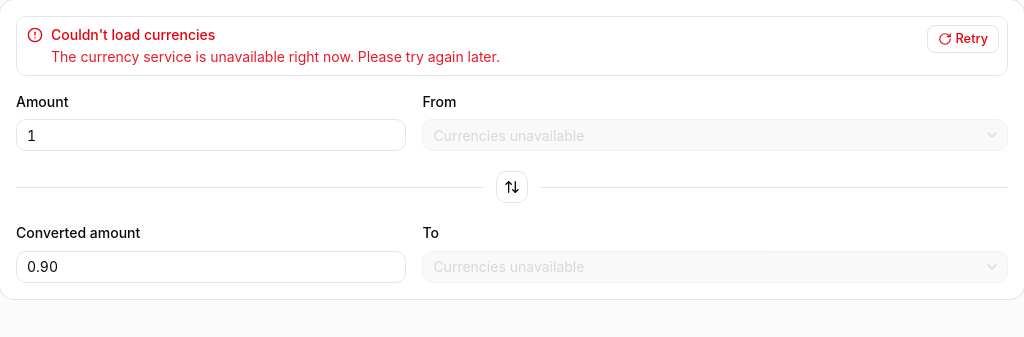
CurrencyConverter › shows an error when the currencies fail to load, and recovers on retry
Expected: the text "Couldn't load currencies" is shown, [51,26,215,43]
Expected: the text "unavailable right now" is shown, [51,48,500,65]
Click the button "Retry" at point(963, 39), box [926,25,999,53]
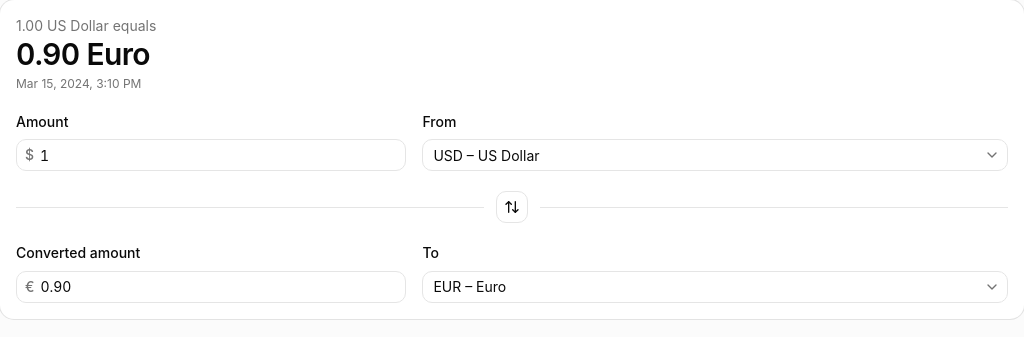
Expected: the dropdown labelled "From" holds "USD – US Dollar", [423,139,980,171]
Expected: the message is gone
